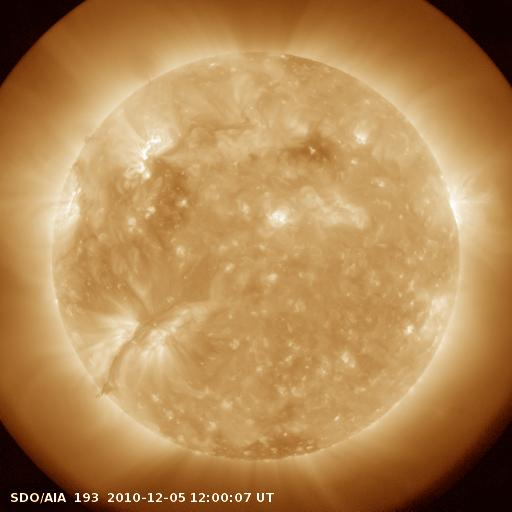coronal_hole: (279, 125, 339, 165), (222, 436, 314, 462)
